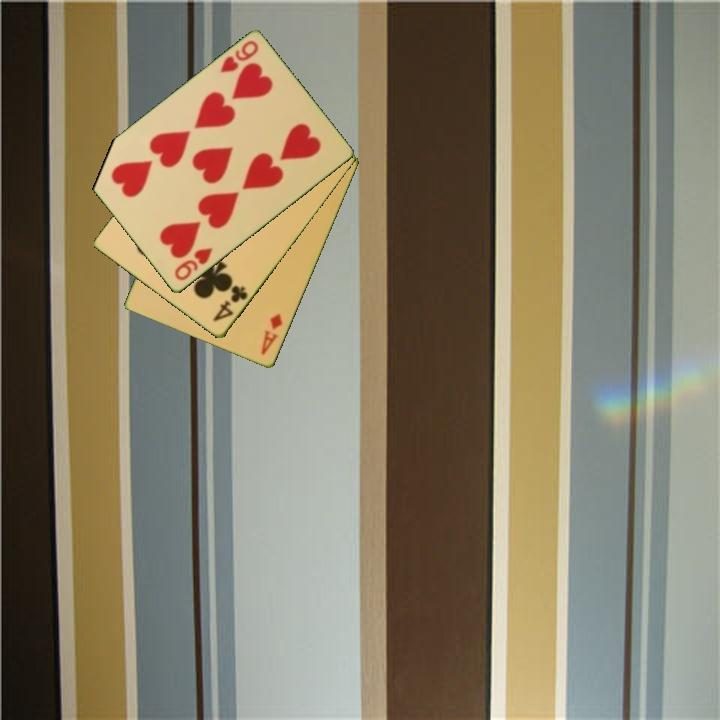4c: (209, 282, 251, 325)
9h: (171, 244, 216, 284), (216, 37, 261, 76)
Ad: (257, 310, 286, 358)
